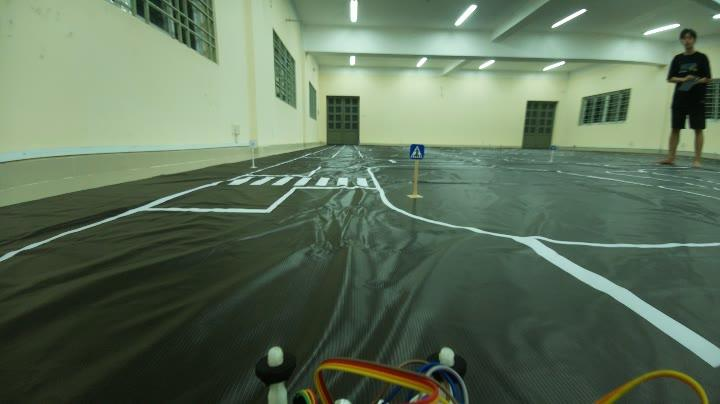crosswalk: (401, 141, 429, 165)
